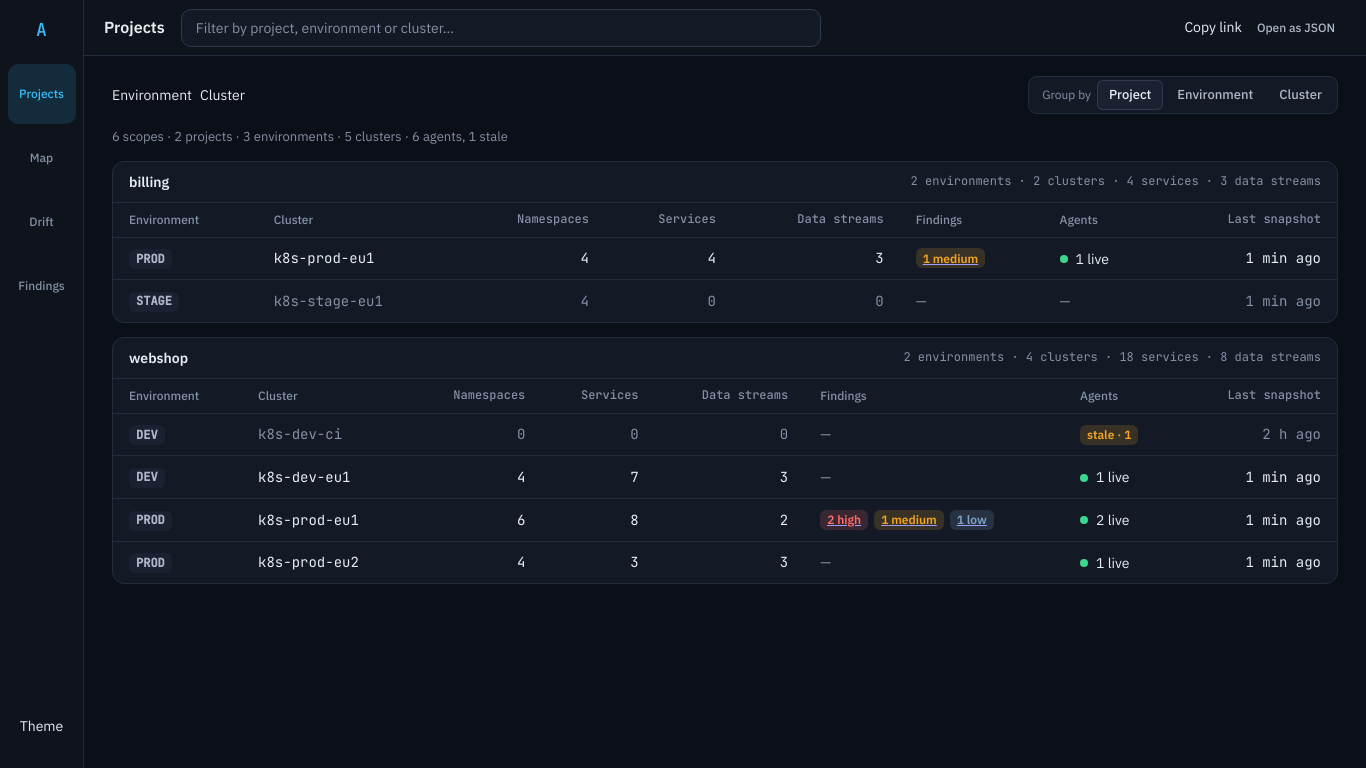
Test: ProjectsPage › switches the grouping and searches by text
Expected: the element "webshop" is shown, [112,337,1338,584]
Click the button "Environment" in the row of "Group by".
click(1215, 95)  # box [1165,80,1265,110]
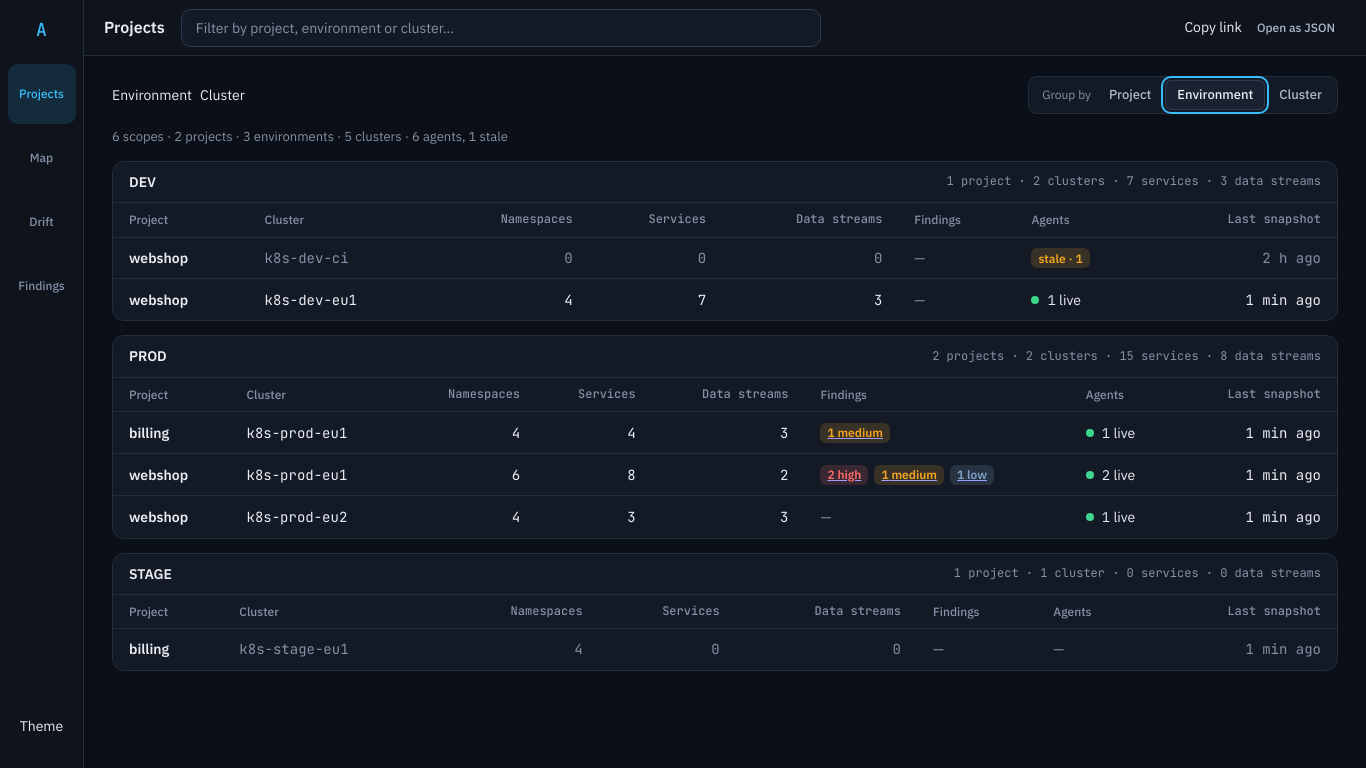
Result: the 2nd column heading "Project" is shown at [113,378,230,412]
Type "bill" into the search field named "Filter scopes".
click(501, 28); type("bill")  # box [181,8,821,46]
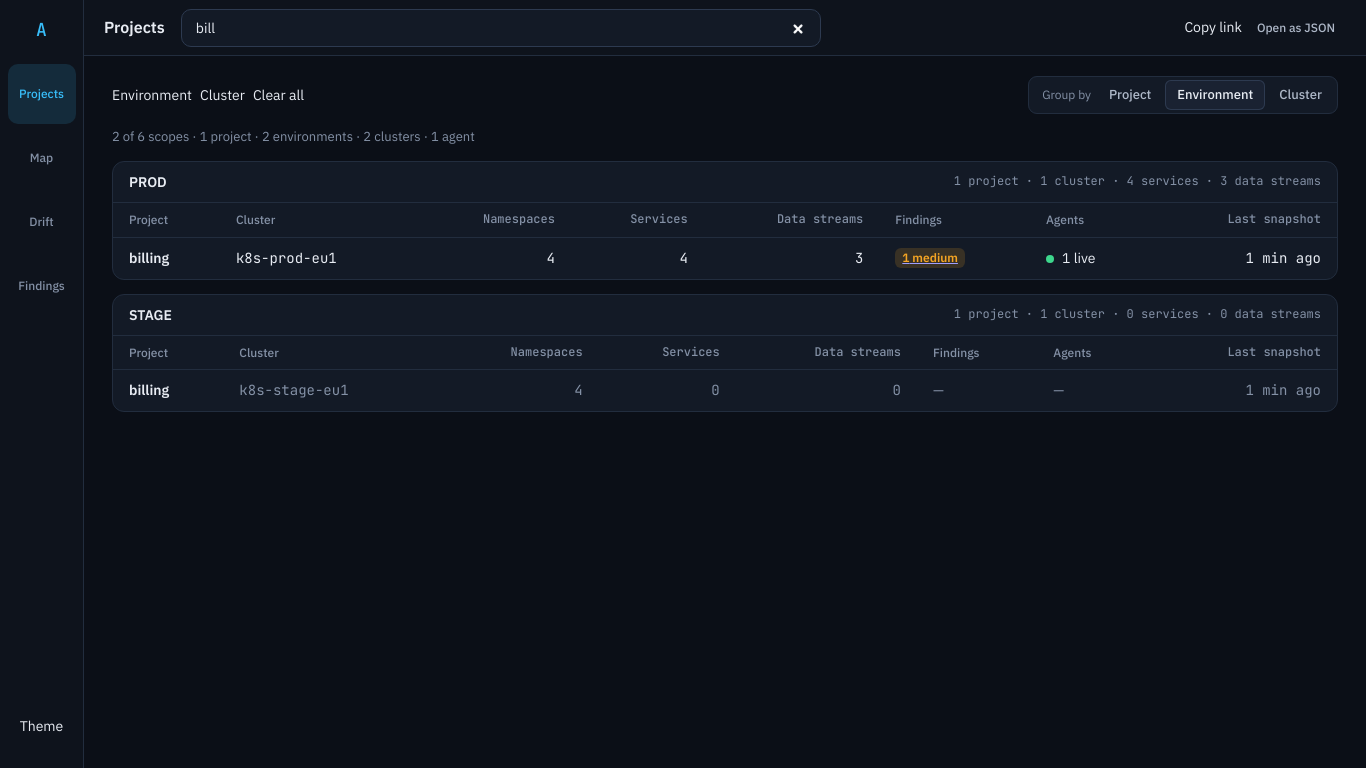
Result: the text "2 of 6 scopes · 1 project · 2 environments · 2 clusters · 1 agent" is shown at [112,128,475,145]
Result: the heading "DEV" is gone
Replace the text in the search field named "Filter scopes" with "nowhere" at (501, 28), box [181,8,821,46]
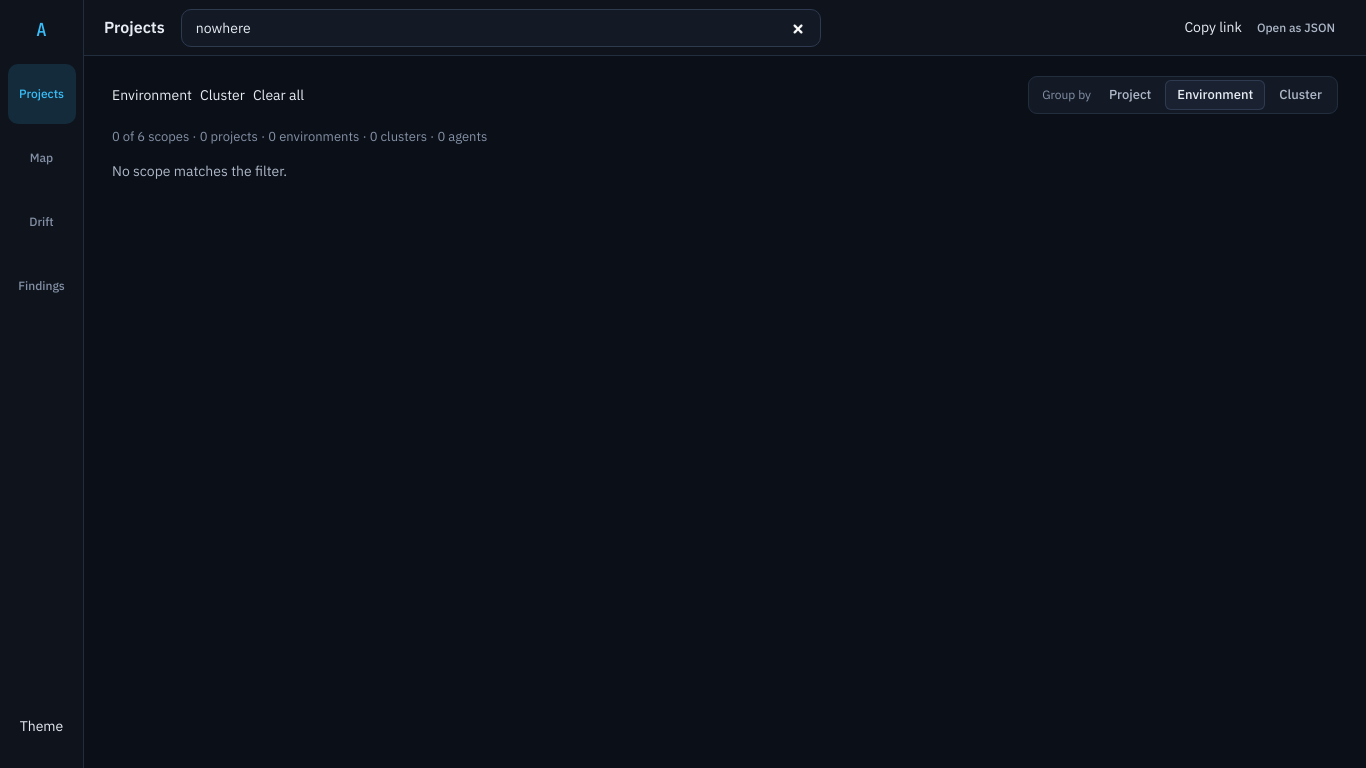
Result: the text "No scope matches the filter." is shown at [112,162,287,180]
